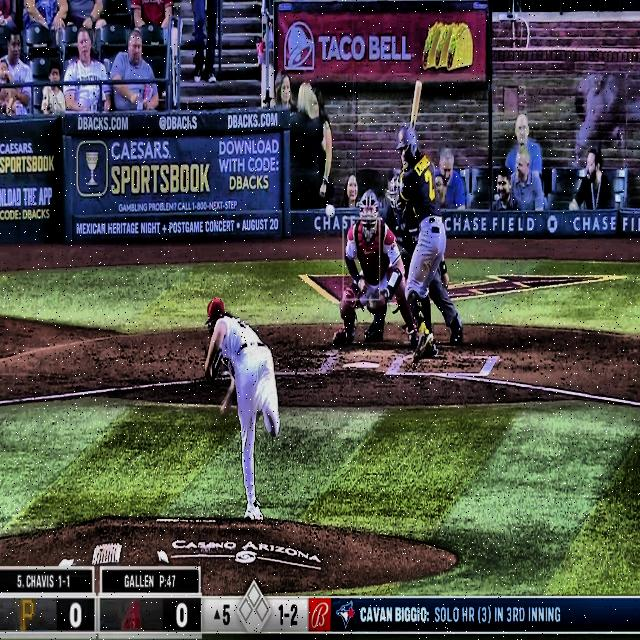baseball: (326, 204, 334, 218)
